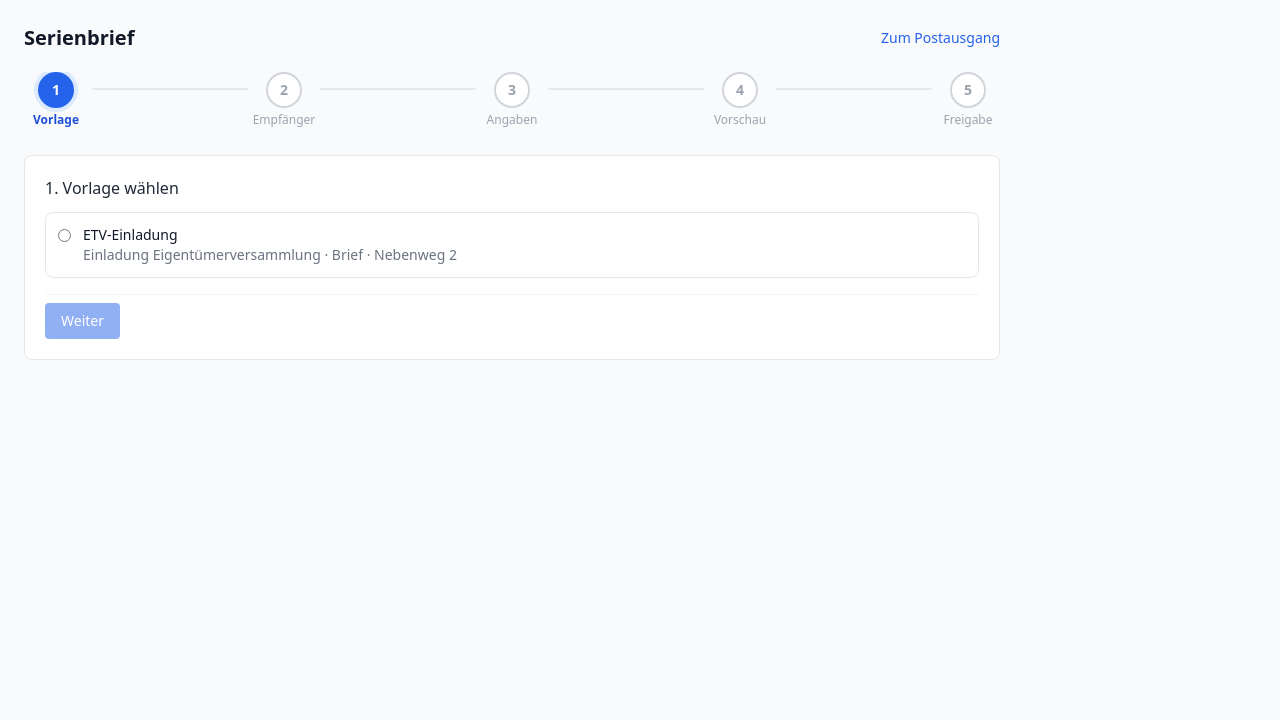
Scenario: SerienbriefAssistentPage › bei objektbezogener Vorlage ist das Objekt fest vorgegeben
Step 1. Click the radio button labelled "ETV-Einladung" → (64, 236), box [58, 229, 71, 242]
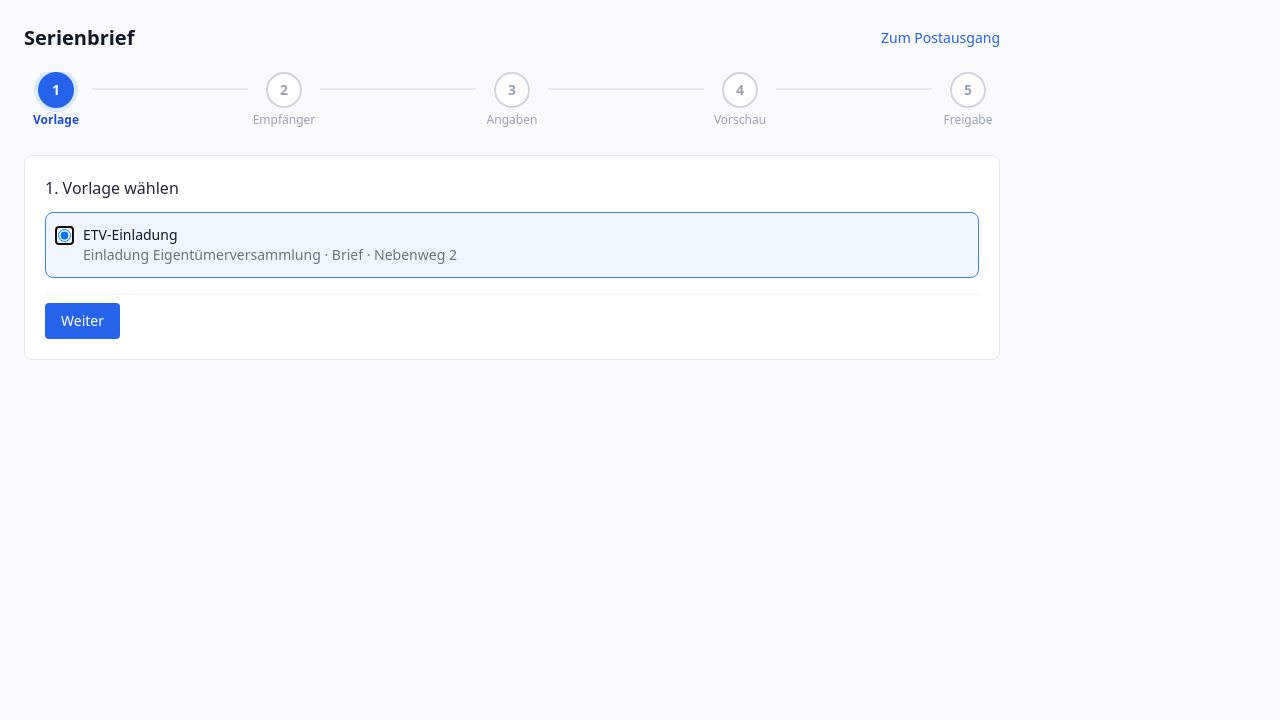
Step 2. Click the button "Weiter" → (82, 321), box [45, 303, 120, 339]
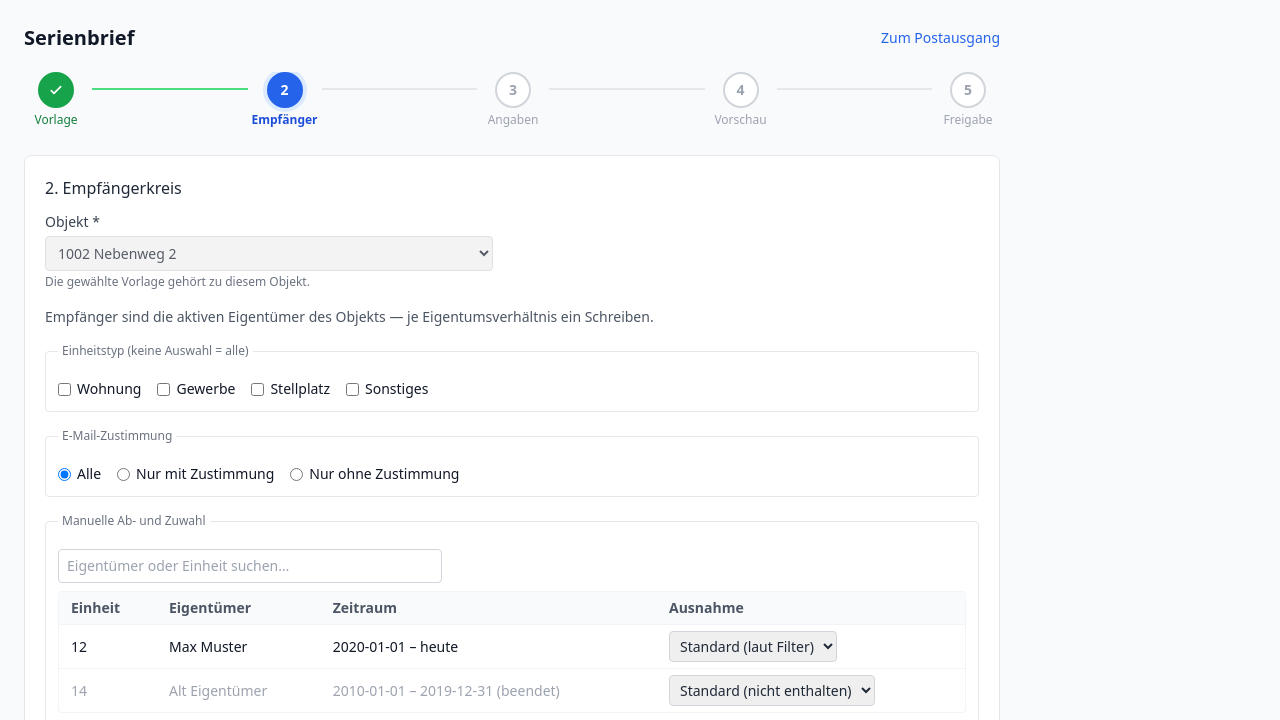
Expected: the dropdown labelled "Objekt * Die gewählte Vorlage gehört zu diesem Objekt." is disabled, [45, 236, 493, 271]
Expected: the dropdown labelled "Objekt * Die gewählte Vorlage gehört zu diesem Objekt." shows "1002 Nebenweg 2", [45, 236, 493, 271]
